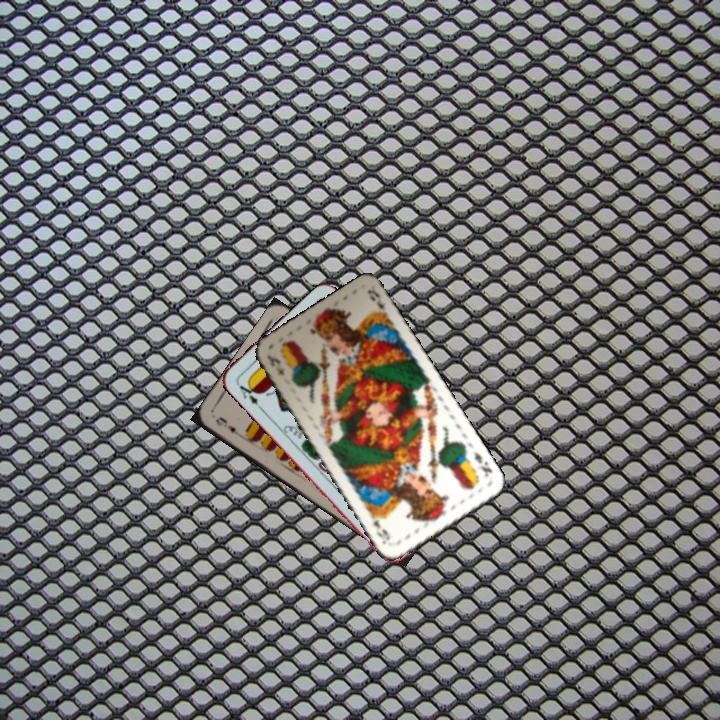E9: (211, 413, 246, 441)
EA: (235, 378, 264, 412)
EK: (470, 448, 495, 480), (263, 351, 287, 378)
